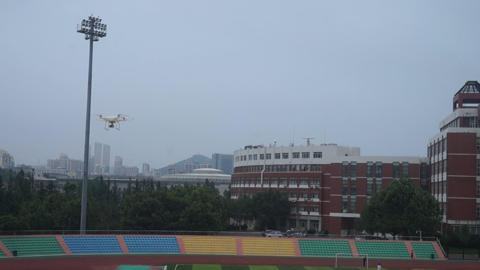UAV: (96, 114, 134, 131)
